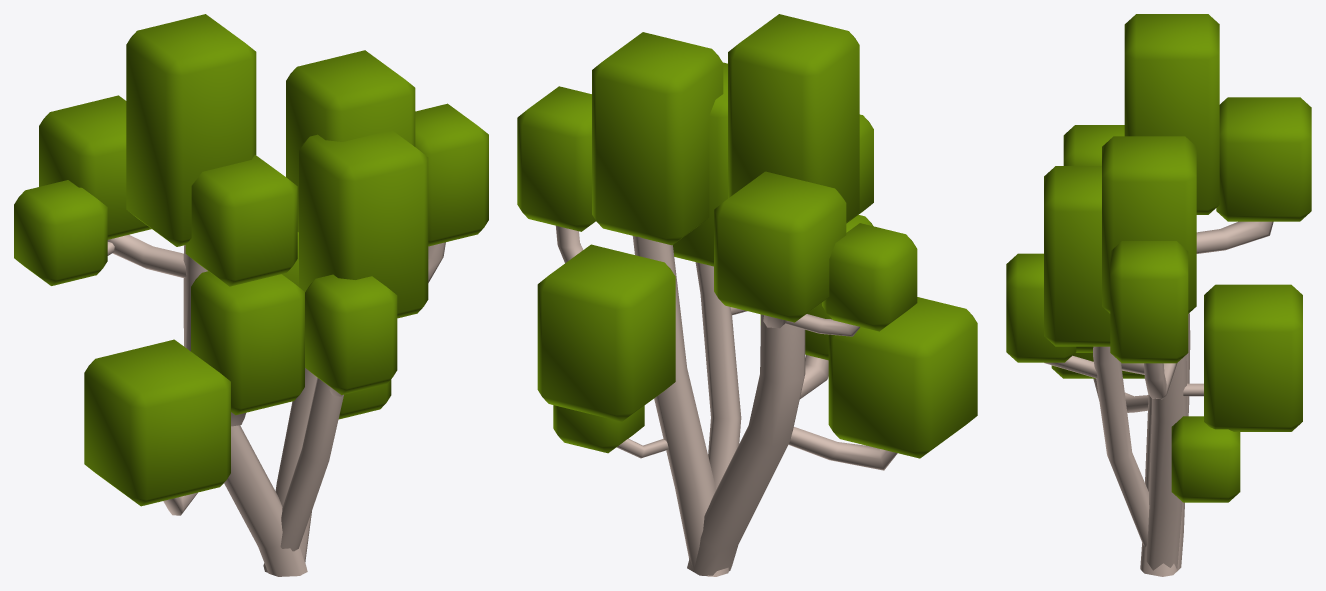
File: SM_Pararie_Brirch_02.fbx
3 renders of one model, left to right at view 1: azimuth 30°, elevation 25°; view 2: azimuth 150°, elevation 25°; view 3: azimuth 270°, elevation 25°, orthographic. The views are drawn at different scales.
Visible parts, largest first — view 1: SM_Pararie_Brirch_02; view 2: SM_Pararie_Brirch_02; view 3: SM_Pararie_Brirch_02.
Part boxes in pixels (bbox=[...]): SM_Pararie_Brirch_02: bbox=[14, 14, 488, 576]; SM_Pararie_Brirch_02: bbox=[517, 14, 977, 576]; SM_Pararie_Brirch_02: bbox=[1006, 14, 1311, 576].
Size of what is drawn, in the model's own units: 2.71 by 3.5 by 1.94.
